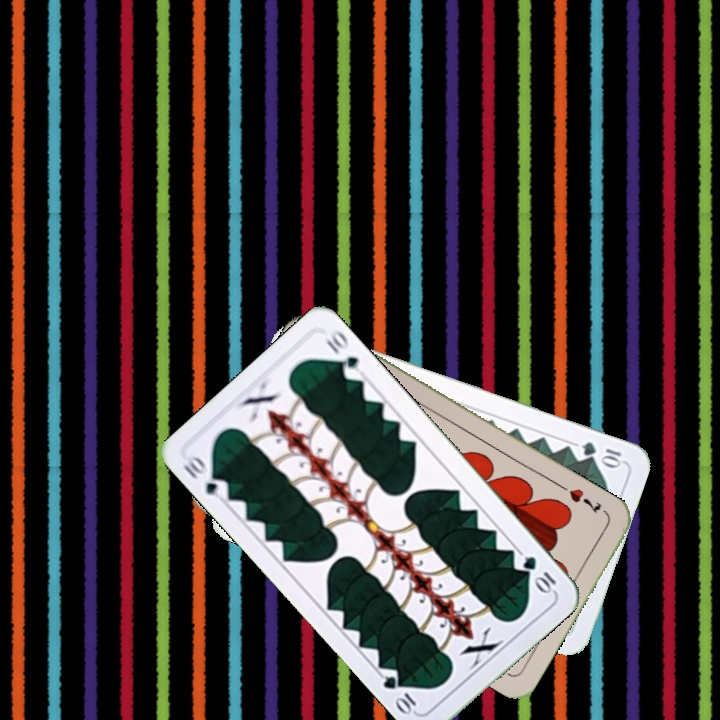G10: (179, 452, 232, 498), (518, 552, 559, 597), (578, 437, 624, 469)
H7: (565, 484, 604, 517)
